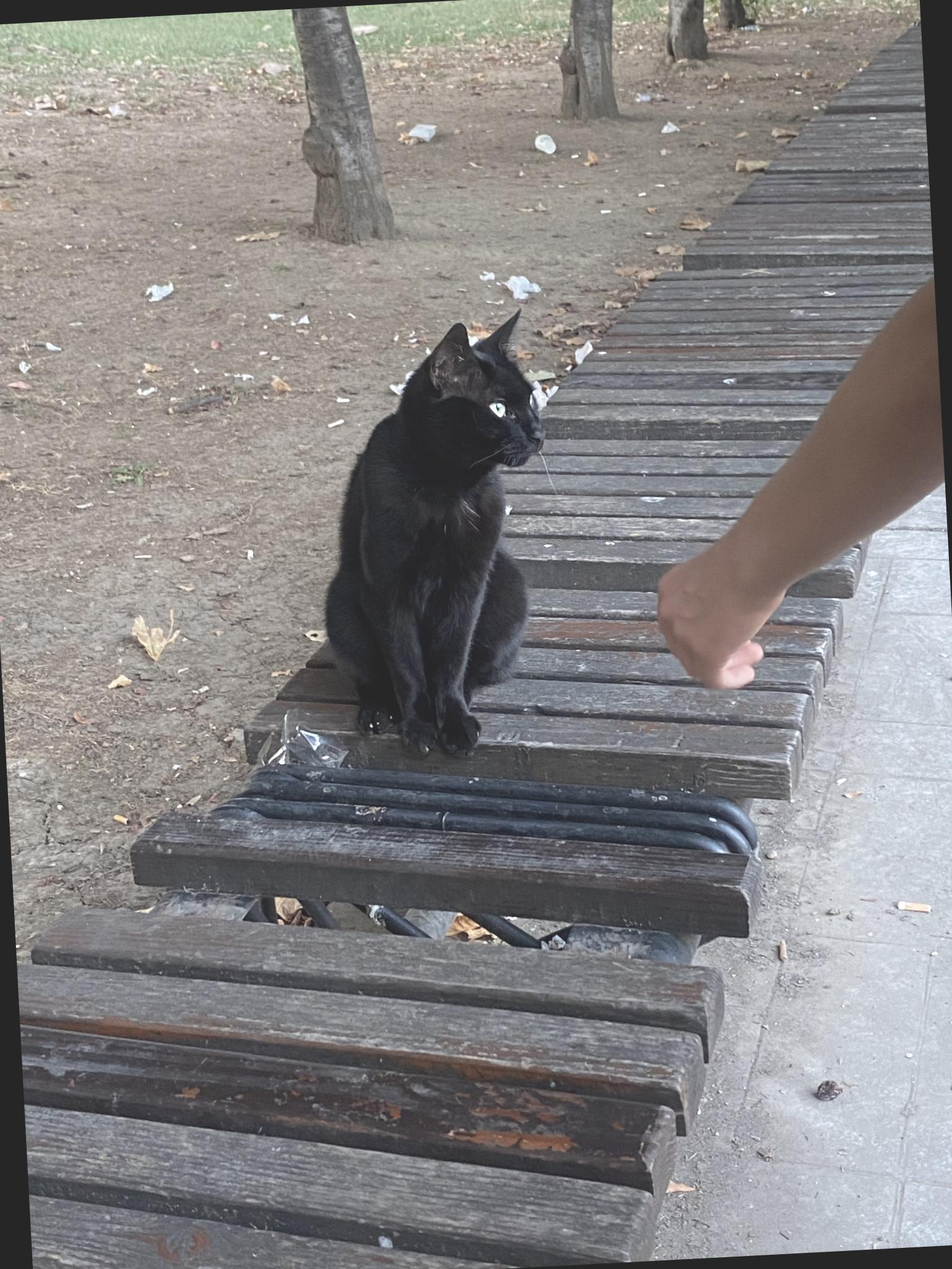macka: (309, 306, 564, 770)
